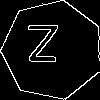Z: (27, 25, 59, 71)
